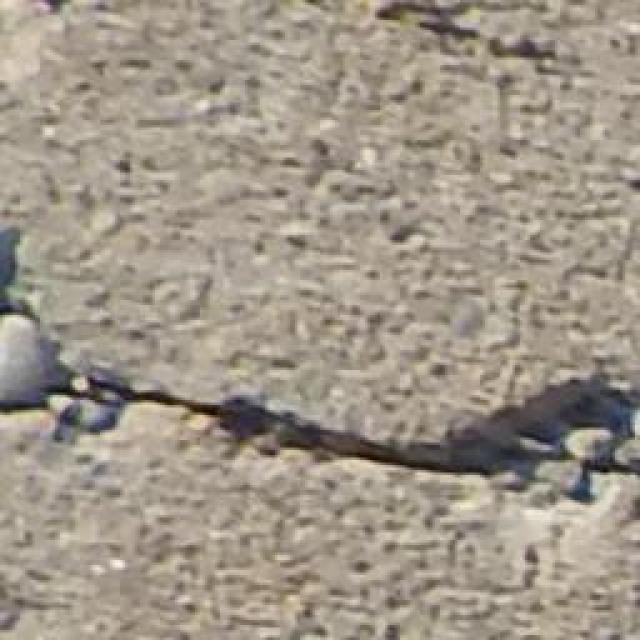concrete-crack: (0, 218, 640, 522)
